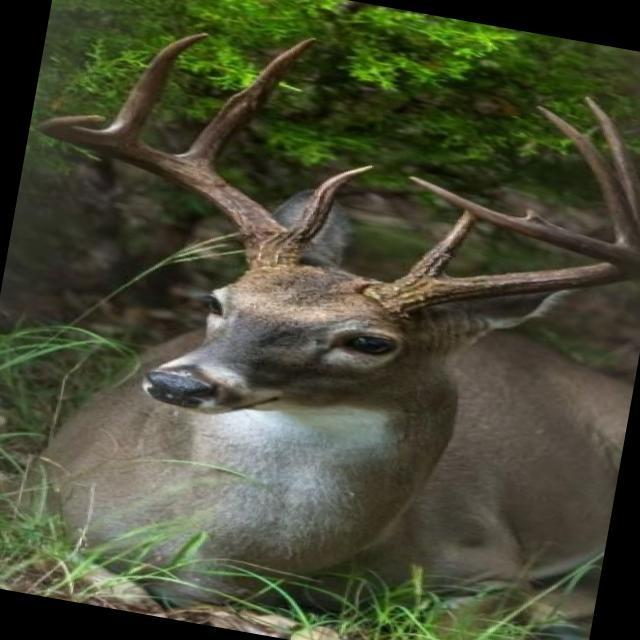E1: (517, 207, 559, 227)
L-F: (360, 175, 640, 319)
L-G1: (406, 208, 476, 279)
L-G3: (536, 104, 640, 256)
R-F: (32, 114, 301, 271)
R-G1: (268, 163, 375, 251)
R-G2: (173, 37, 319, 173)
R-G3: (99, 32, 210, 141)
